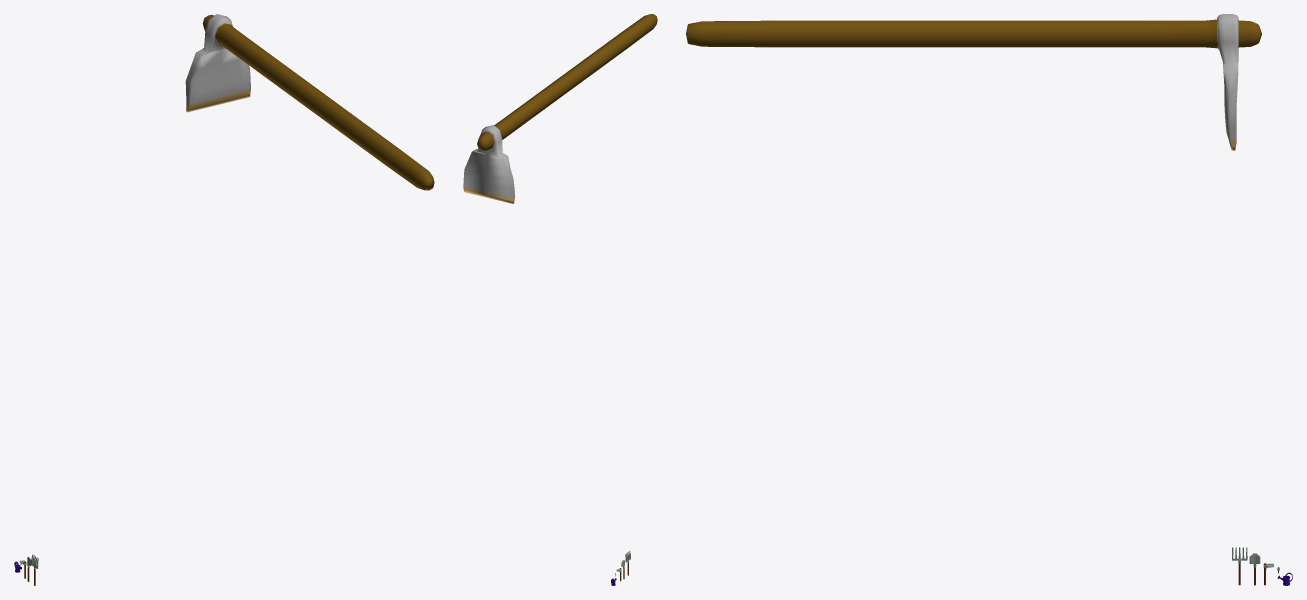
The model's file is garden tools.fbx.
3 renders of one model, left to right at view 1: azimuth 30°, elevation 25°; view 2: azimuth 150°, elevation 25°; view 3: azimuth 270°, elevation 25°, orthographic. The views are drawn at different scales.
Parts seen in each view (by area): view 1: Cube.005; view 2: Cube.005; view 3: Cube.005.
Boxes of the visible parts, x1,y1,x2,y2 form: Cube.005: (185, 14, 434, 190); Cube.005: (463, 14, 657, 203); Cube.005: (686, 14, 1261, 150).
Bounding box in the file's own units: 444 × 1042 × 836.
